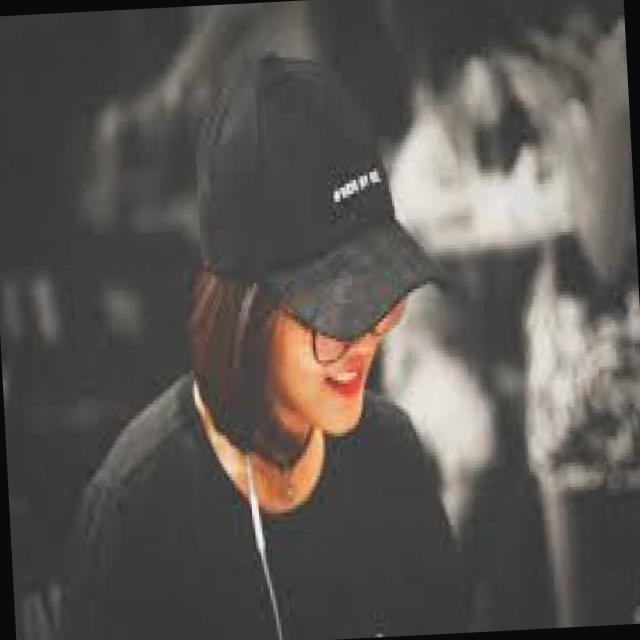cap: (180, 30, 484, 348)
